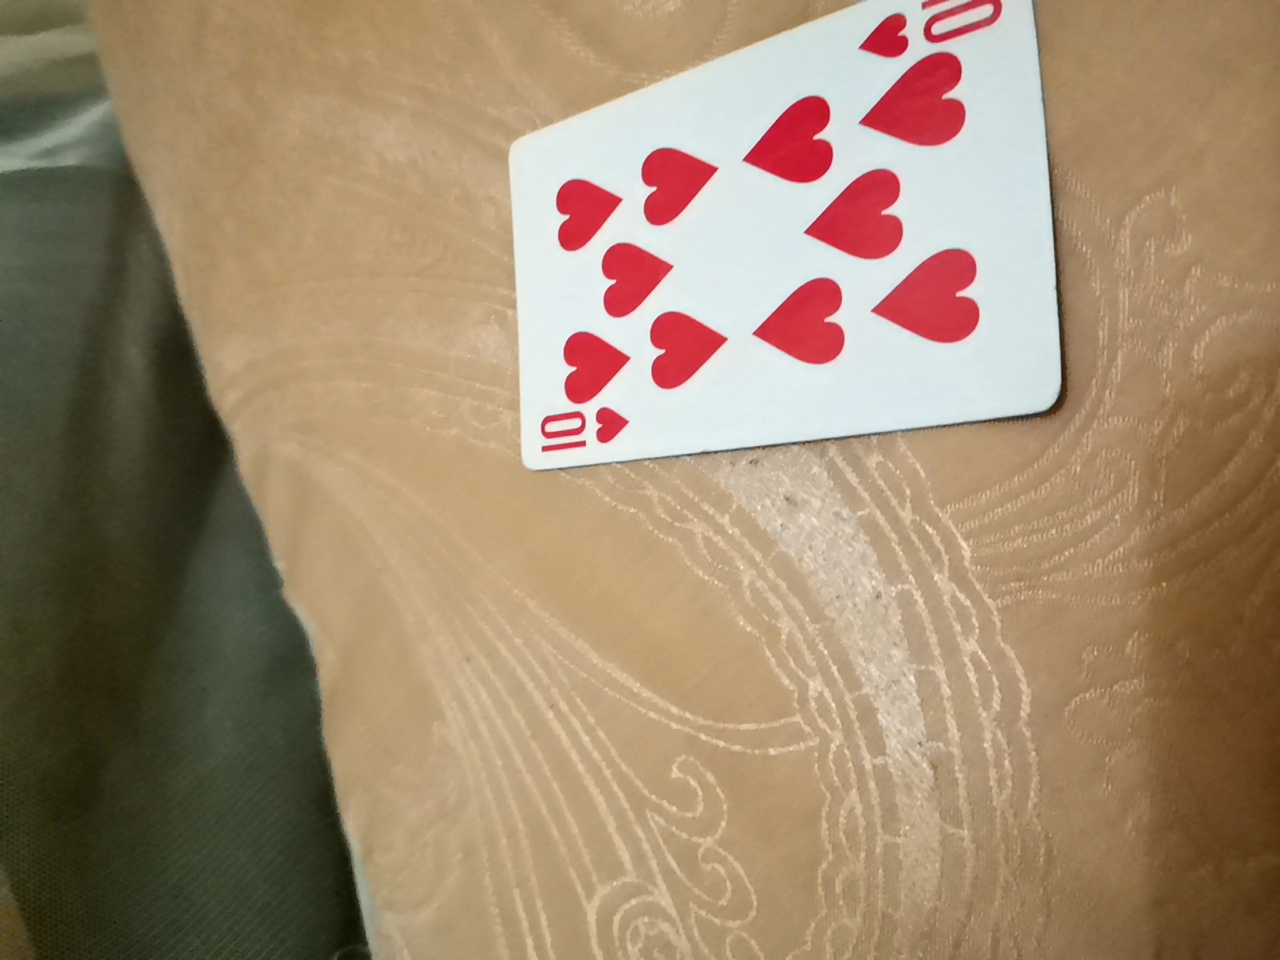hx 10: (494, 5, 1067, 475)
